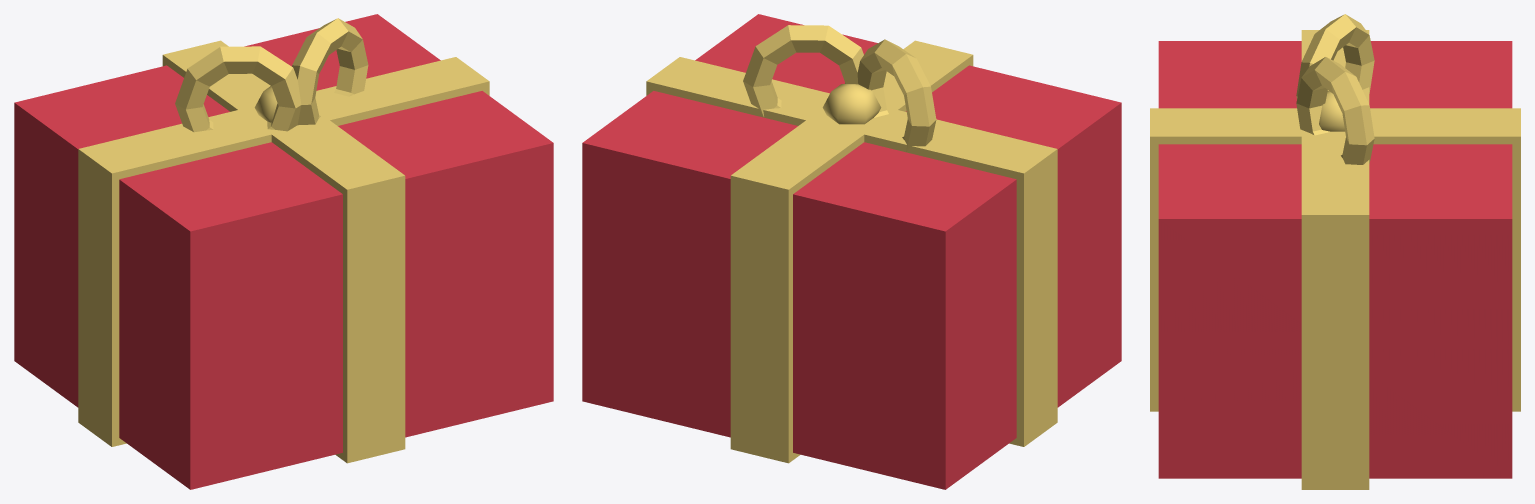
File: present.glb
3 views of the same model, side by side, from view 1: azimuth 30°, elevation 25°; view 2: azimuth 150°, elevation 25°; view 3: azimuth 270°, elevation 25° (orthographic).
Visible parts, largest first — view 1: present-mesh; view 2: present-mesh; view 3: present-mesh.
Part boxes in pixels (left/top/right/bottom): present-mesh: left=14, top=14, right=553, bottom=489; present-mesh: left=582, top=14, right=1121, bottom=489; present-mesh: left=1150, top=14, right=1520, bottom=489.
Size of the model in its own units: 0.52 by 0.4642 by 0.44.
